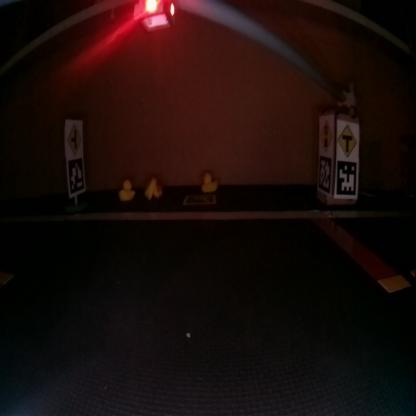Duckie: (118, 180, 132, 200), (144, 179, 160, 196), (201, 174, 217, 190)
Intersection sign: (339, 121, 357, 155), (66, 122, 82, 155)
QR code: (337, 162, 356, 197), (67, 160, 84, 194), (184, 189, 216, 205), (317, 160, 332, 192)
Signal sign: (318, 118, 334, 152)
Traffic light: (133, 0, 173, 31)
